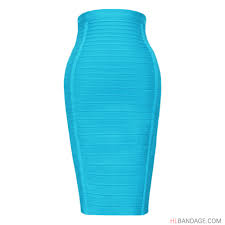C_skirt: (61, 17, 173, 224)
